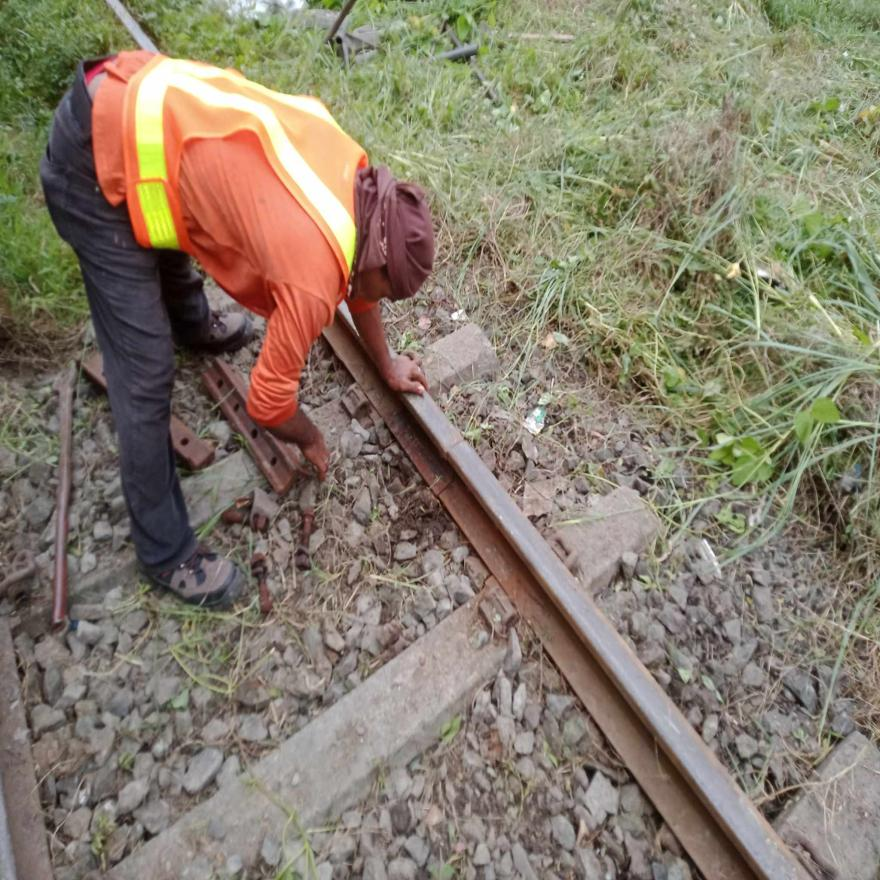railway-gap: (413, 416, 487, 513)
